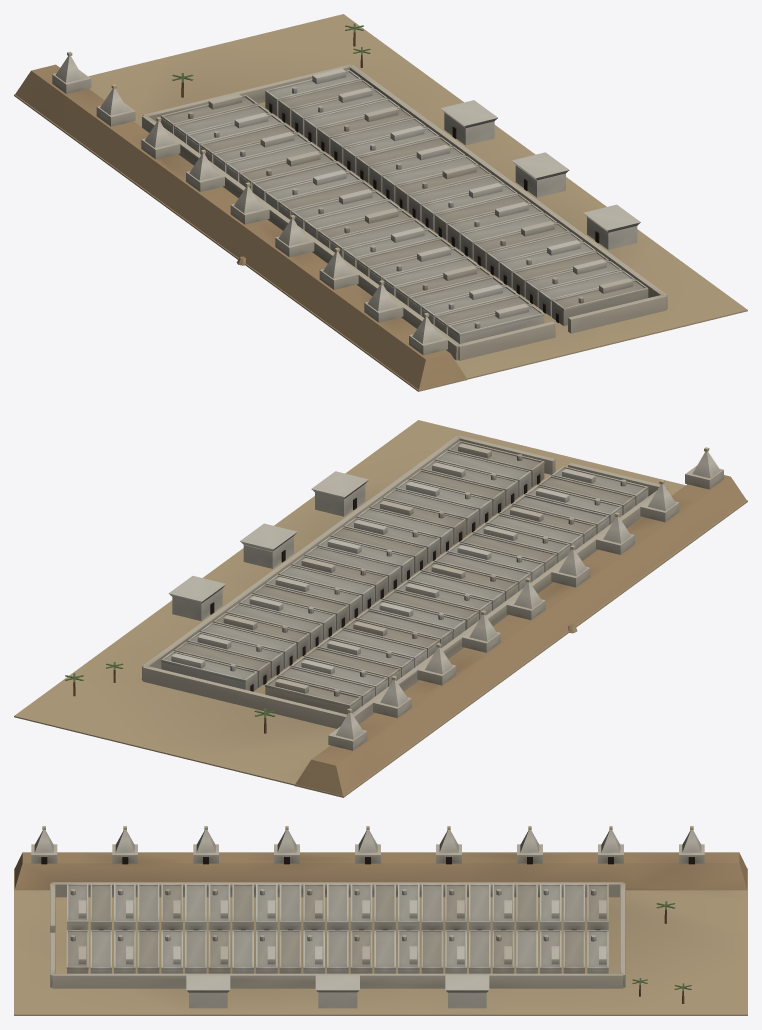
Rendered from deir-el-medina.glb.
The picture shows the model from 3 angles, top to bottom: view 1: azimuth 30°, elevation 25°; view 2: azimuth 150°, elevation 25°; view 3: azimuth 270°, elevation 25°; orthographic projection. The views are drawn at different scales.
Parts seen in each view (by area): view 1: p2_houses, p0_slope, p3_tombs, p1_walls; view 2: p2_houses, p0_slope, p3_tombs, p1_walls; view 3: p0_slope, p2_houses, p1_walls, p3_tombs.
Part boxes in pixels (x1,y1,x2,y2): p2_houses: [161, 68, 648, 343]; p0_slope: [14, 14, 747, 391]; p3_tombs: [52, 23, 640, 355]; p1_walls: [142, 64, 667, 360]; p2_houses: [161, 440, 648, 714]; p0_slope: [14, 420, 747, 797]; p3_tombs: [65, 447, 723, 750]; p1_walls: [141, 435, 667, 728]; p0_slope: [14, 852, 747, 1015]; p2_houses: [66, 884, 608, 973]; p1_walls: [50, 882, 625, 988]; p3_tombs: [31, 826, 704, 1008].
Size of the model in its own units: 81.18 by 13.87 by 170.
